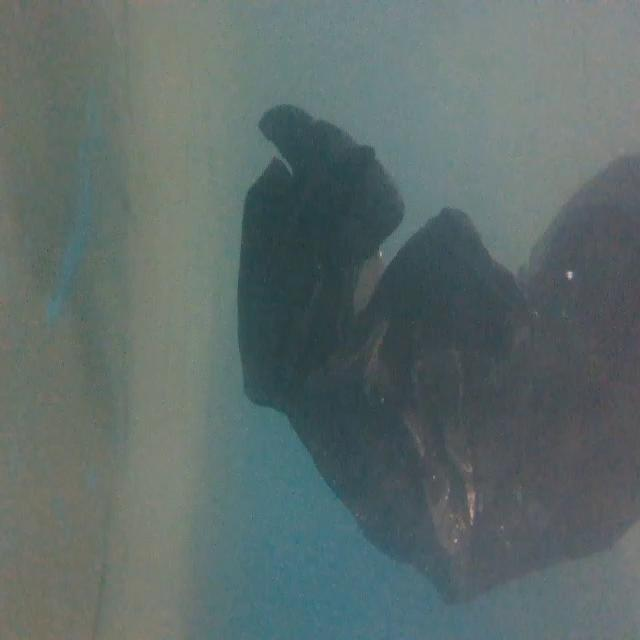plastic bags: (232, 96, 640, 600)
